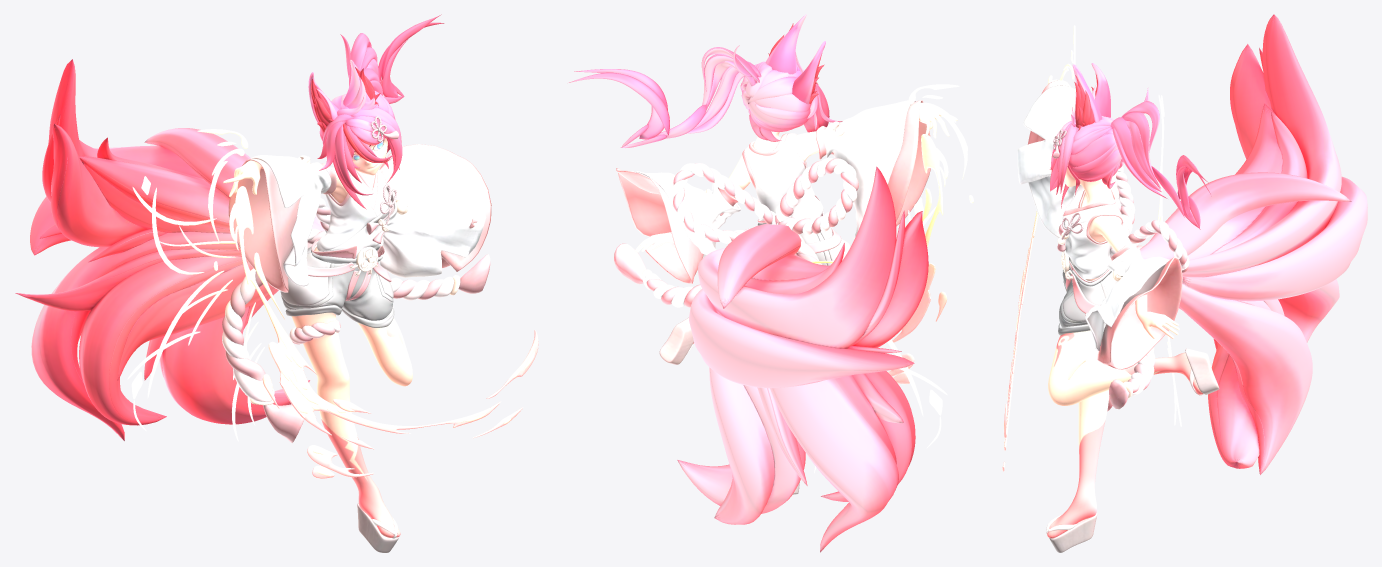
3 views of the same model, side by side, from view 1: azimuth 30°, elevation 25°; view 2: azimuth 150°, elevation 25°; view 3: azimuth 270°, elevation 25° (orthographic). The views are drawn at different scales.
Visible parts, largest first — view 1: Body_Backup.003_Hair_0, Body_Backup.004_Clothes_0, Body_Backup.005_Fire_0, Body_Backup.002_Skin_0; view 2: Body_Backup.003_Hair_0, Body_Backup.004_Clothes_0, Body_Backup.005_Fire_0, Body_Backup.002_Skin_0; view 3: Body_Backup.003_Hair_0, Body_Backup.004_Clothes_0, Body_Backup.002_Skin_0, Body_Backup.005_Fire_0.
Part boxes in pixels (x1,y1,x2,y2): Body_Backup.003_Hair_0: (15, 14, 444, 440); Body_Backup.004_Clothes_0: (222, 116, 491, 552); Body_Backup.005_Fire_0: (127, 129, 538, 478); Body_Backup.002_Skin_0: (223, 138, 412, 537); Body_Backup.003_Hair_0: (569, 14, 928, 552); Body_Backup.004_Clothes_0: (614, 100, 930, 494); Body_Backup.005_Fire_0: (811, 84, 973, 473); Body_Backup.002_Skin_0: (635, 105, 957, 343); Body_Backup.003_Hair_0: (1050, 14, 1367, 474); Body_Backup.004_Clothes_0: (1017, 80, 1219, 552); Body_Backup.002_Skin_0: (1047, 75, 1202, 538); Body_Backup.005_Fire_0: (1002, 25, 1181, 471).
Bounding box in the file's own units: 12.73 × 15.65 × 10.93.
